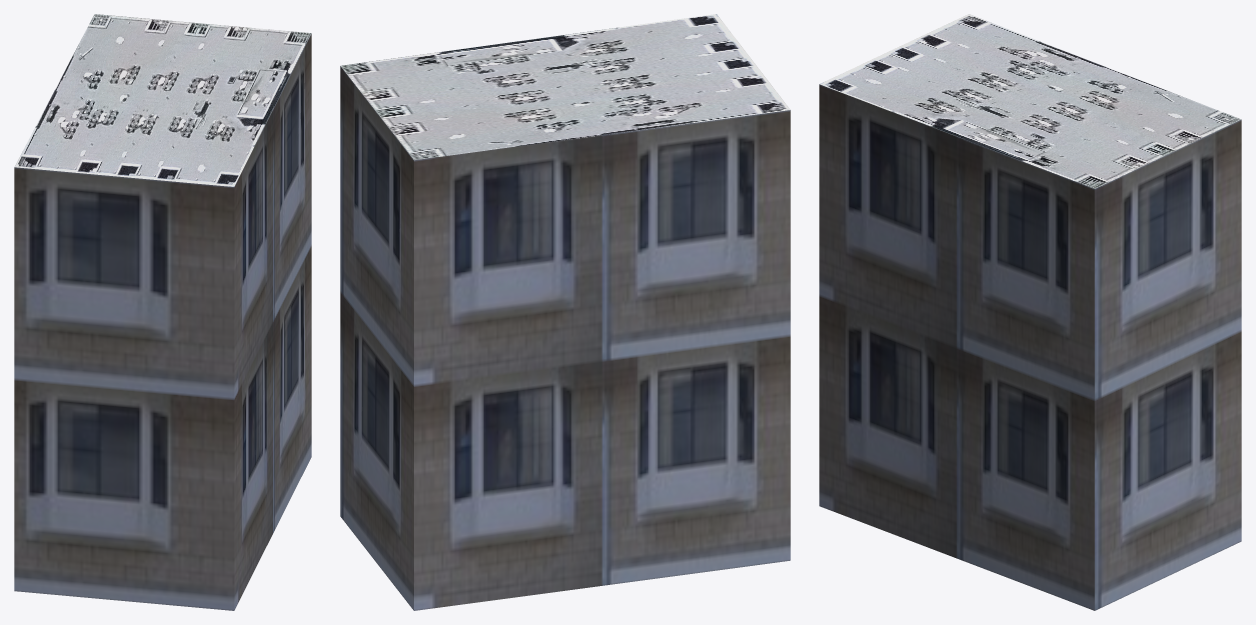
Rendered from ResTex__456.fbx.
3 views of the same model, side by side, from view 1: azimuth 30°, elevation 25°; view 2: azimuth 150°, elevation 25°; view 3: azimuth 270°, elevation 25° (orthographic). The views are drawn at different scales.
Visible parts, largest first — view 1: CityEngineMaterial_3_m, CityEngineMaterial_4_m; view 2: CityEngineMaterial_3_m, CityEngineMaterial_4_m; view 3: CityEngineMaterial_3_m, CityEngineMaterial_4_m.
Part boxes in pixels (x1,y1,x2,y2): CityEngineMaterial_3_m: (14, 33, 311, 610); CityEngineMaterial_4_m: (14, 14, 311, 186); CityEngineMaterial_3_m: (340, 66, 790, 610); CityEngineMaterial_4_m: (340, 14, 790, 160); CityEngineMaterial_3_m: (819, 84, 1241, 610); CityEngineMaterial_4_m: (819, 14, 1241, 188).
Size of the model in its own units: 5.34 by 6 by 5.45.
Materials: 2 (2 with a texture image).
